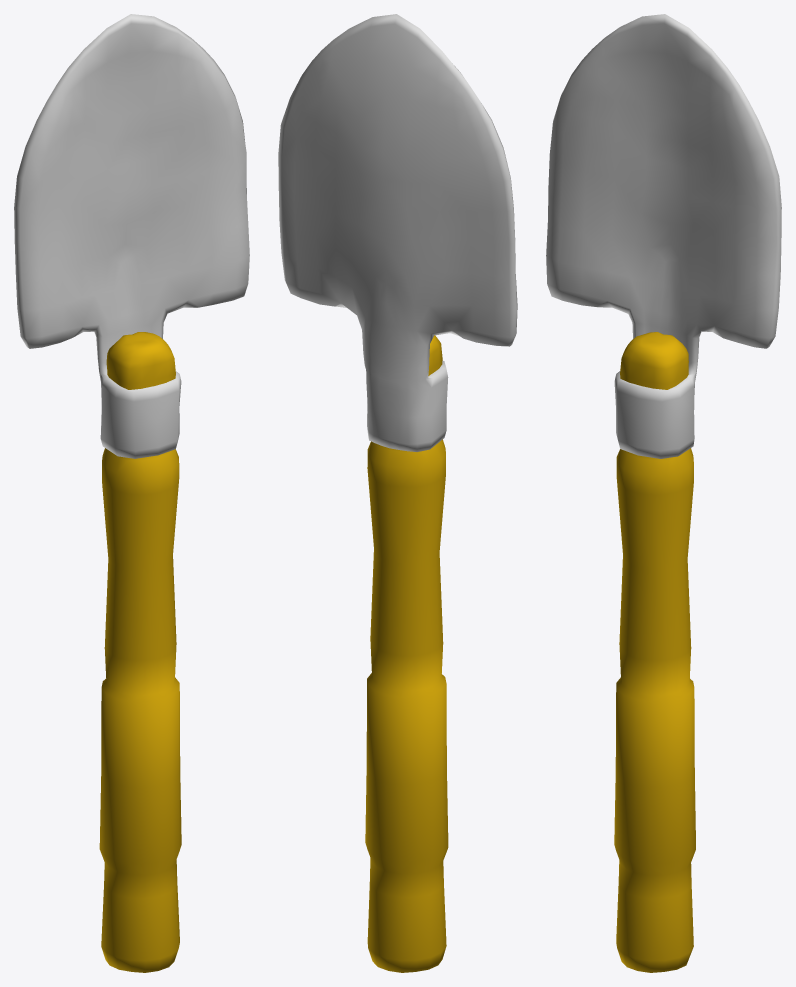
The model's file is MetalShovel.fbx.
3 views of the same model, side by side, from view 1: azimuth 30°, elevation 25°; view 2: azimuth 150°, elevation 25°; view 3: azimuth 330°, elevation 25° (orthographic).
Visible parts, largest first — view 1: MetalShovel; view 2: MetalShovel; view 3: MetalShovel.
Part boxes in pixels (box(x1,y1,x2,y2)): MetalShovel: box(14, 14, 249, 972); MetalShovel: box(278, 14, 517, 972); MetalShovel: box(546, 14, 781, 972).
Size of the model in its own units: 0.1902 by 0.7379 by 0.0624.
